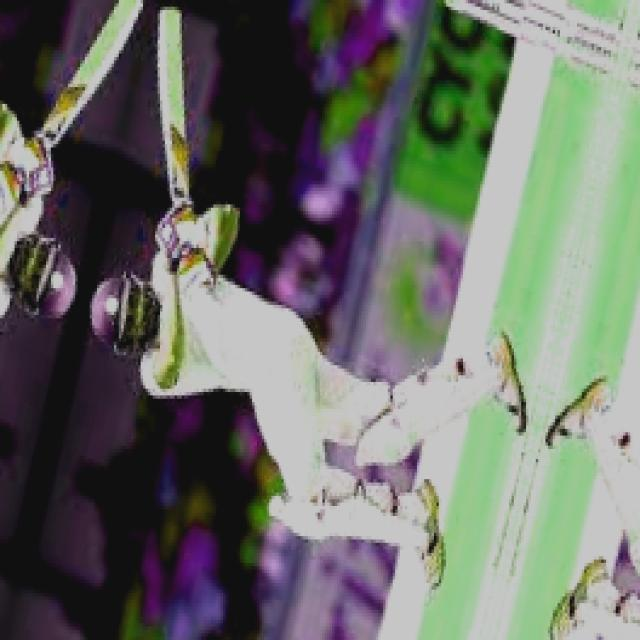toe: (156, 8, 184, 22)
